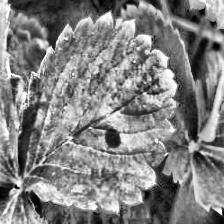Leaf Spot: (18, 9, 180, 216), (0, 186, 99, 224)
